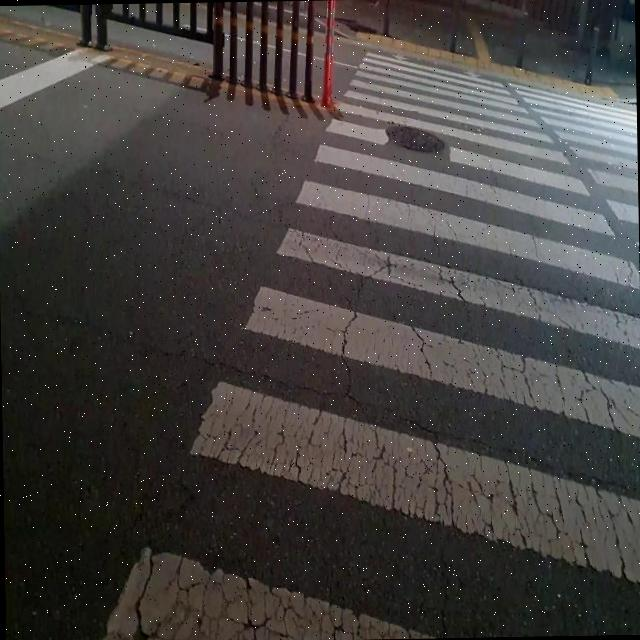crosswalk: (100, 47, 640, 640)
